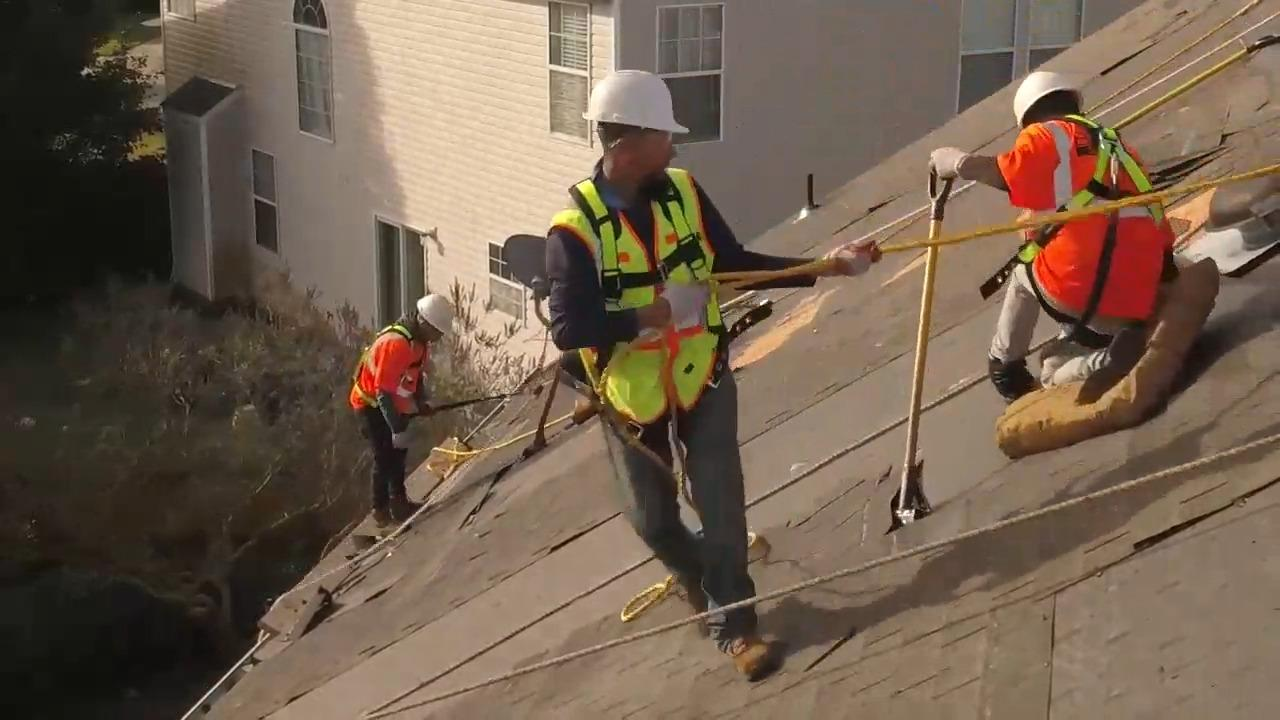Gloves: (652, 282, 707, 327), (825, 237, 882, 271), (934, 147, 975, 181), (387, 429, 417, 453)
Helmet: (586, 63, 681, 133), (1012, 70, 1084, 128), (415, 293, 454, 335)
Person: (538, 53, 878, 663), (934, 59, 1189, 440), (348, 292, 454, 528)
Safety Boot: (987, 352, 1043, 402), (718, 634, 780, 674), (363, 500, 413, 528)
Safety Vest: (580, 210, 716, 389), (1022, 141, 1150, 299), (360, 330, 427, 409)
